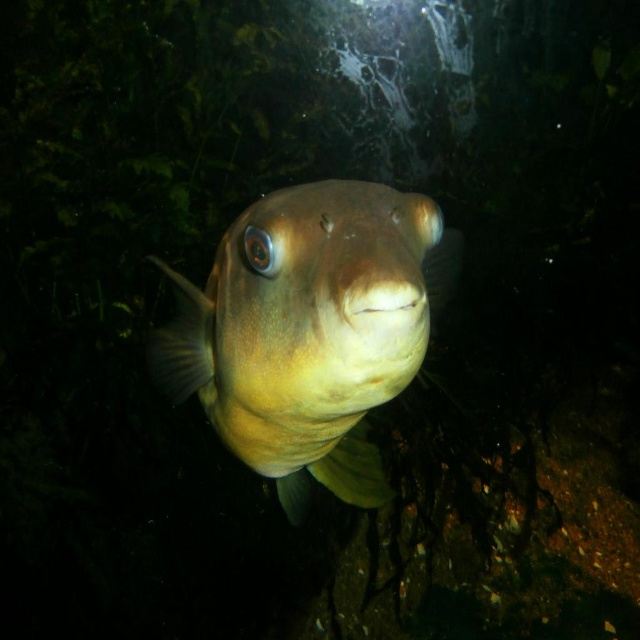Fish: (146, 175, 455, 525)
